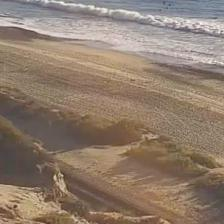surfer: (210, 17, 218, 20), (163, 0, 166, 5), (168, 3, 172, 6), (165, 6, 169, 9), (158, 9, 162, 11)
